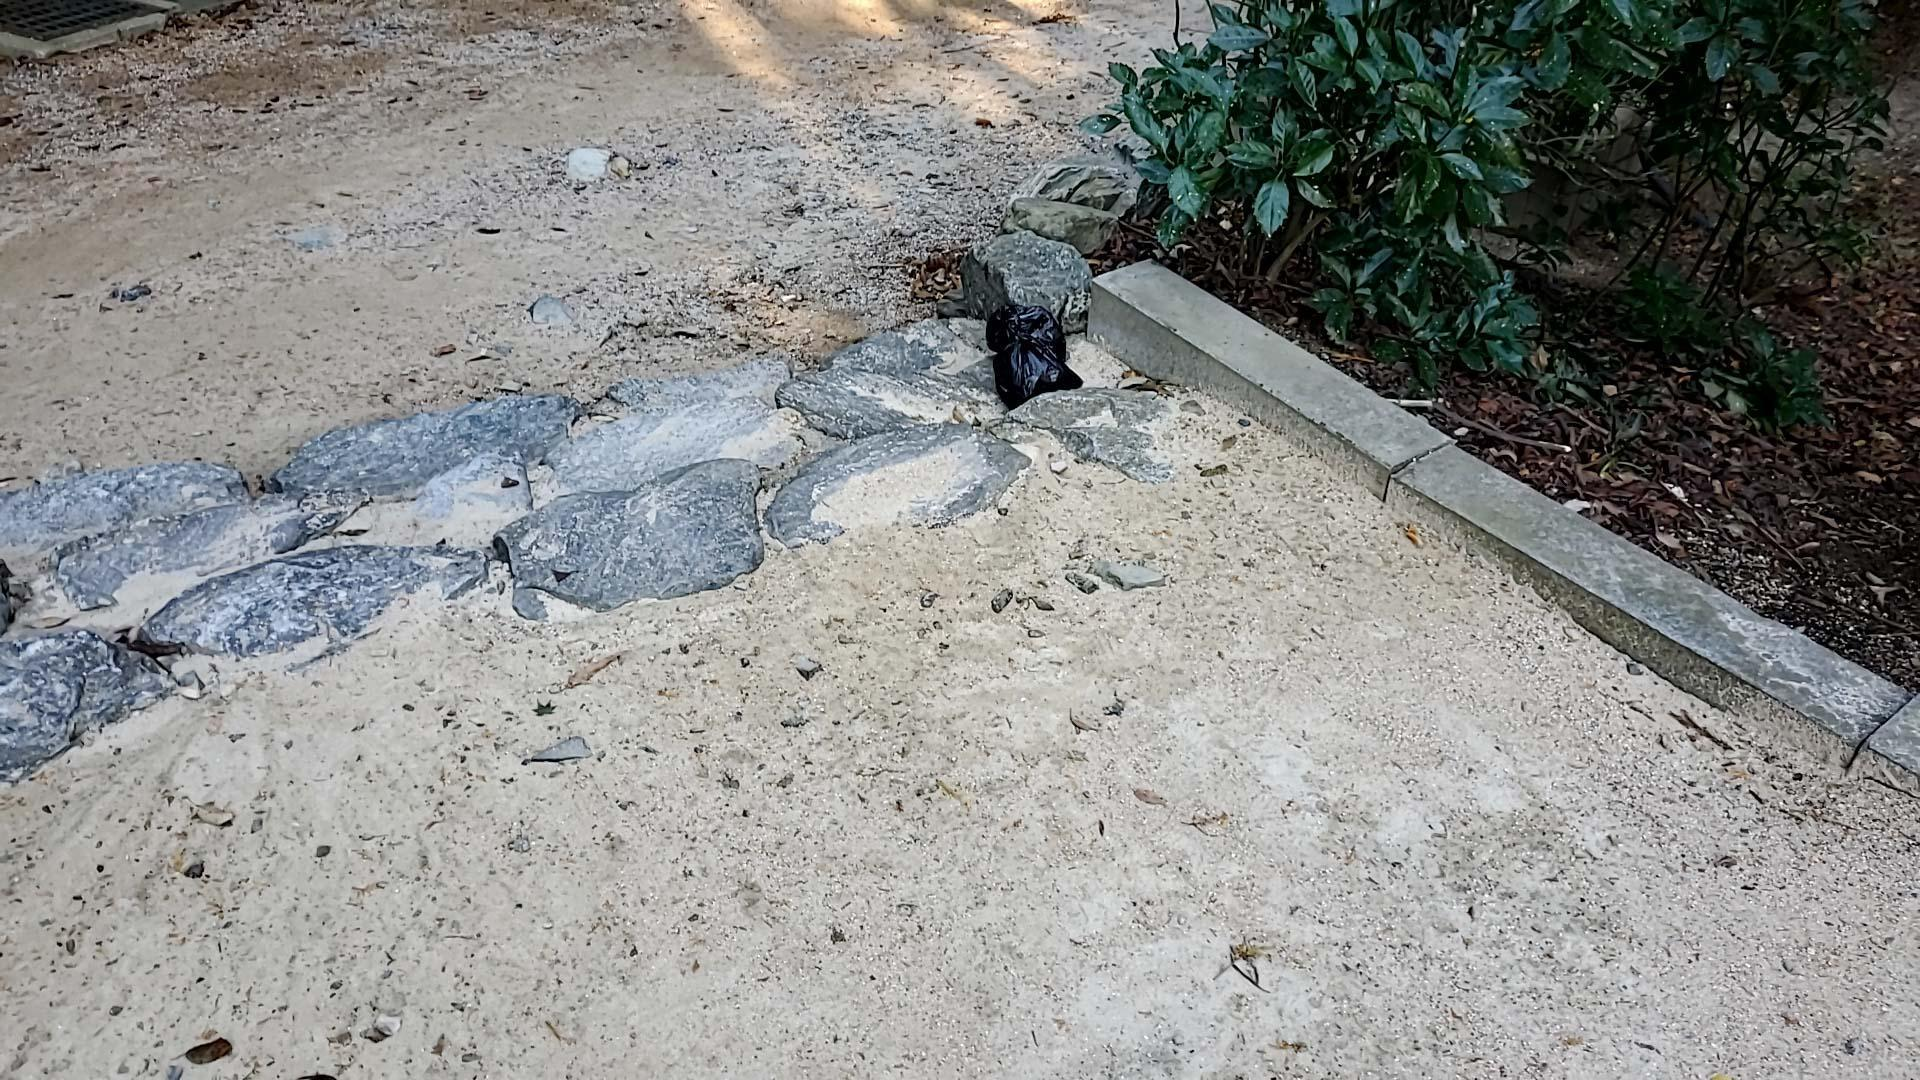black_bag: (993, 324, 1087, 410), (984, 299, 1069, 360)
